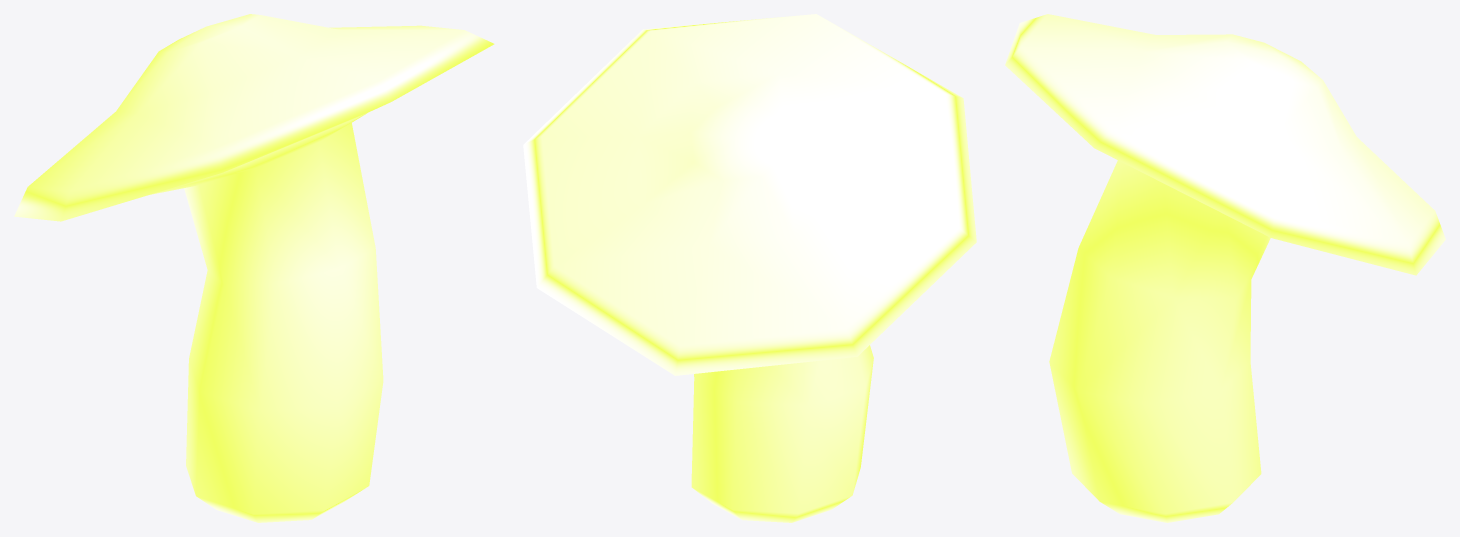
The model's file is cosgurmelocolorido2.fbx.
3 views of the same model, side by side, from view 1: azimuth 30°, elevation 25°; view 2: azimuth 150°, elevation 25°; view 3: azimuth 270°, elevation 25° (orthographic). The views are drawn at different scales.
Visible parts, largest first — view 1: cogumelopequeno2; view 2: cogumelopequeno2; view 3: cogumelopequeno2.
Part boxes in pixels (bbox=[...]): cogumelopequeno2: bbox=[14, 14, 494, 522]; cogumelopequeno2: bbox=[523, 14, 976, 522]; cogumelopequeno2: bbox=[1005, 14, 1445, 522].
Bounding box in the file's own units: 70.4 × 70.71 × 61.37.
